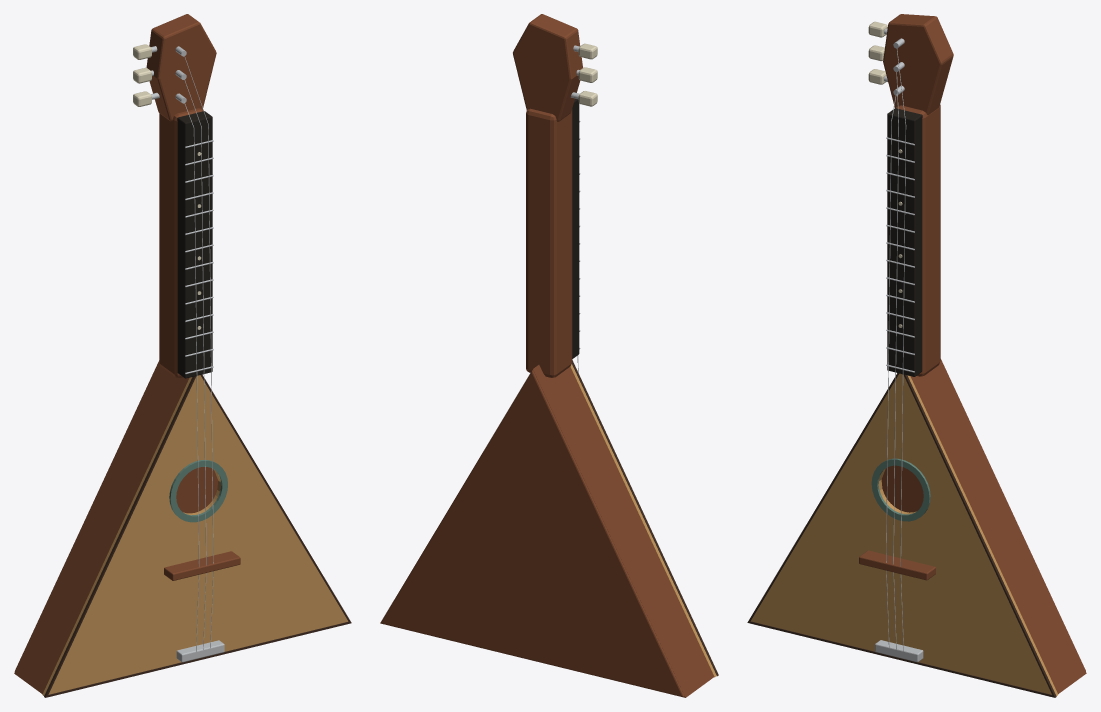
Rendered from full.fbx.
3 renders of one model, left to right at view 1: azimuth 30°, elevation 25°; view 2: azimuth 150°, elevation 25°; view 3: azimuth 330°, elevation 25°, orthographic.
Visible parts, largest first — view 1: Triangular soundboard with real soundhole, Hollow triangular body sides, Dark fingerboard, Asymmetric paddle headstock, Long narrow neck, Front perimeter binding, Closed triangular back, Plain soundhole annular surround, Raised bridge, Continuous string 2, Continuous string 1, Continuous string 0 (+1 smaller); view 2: Closed triangular back, Hollow triangular body sides, Long narrow neck, Asymmetric paddle headstock, Dark fingerboard, Triangular soundboard with real soundhole, Front perimeter binding; view 3: Triangular soundboard with real soundhole, Hollow triangular body sides, Dark fingerboard, Asymmetric paddle headstock, Long narrow neck, Front perimeter binding, Closed triangular back, Plain soundhole annular surround, Raised bridge, Continuous string 2, Continuous string 1, Continuous string 0 (+1 smaller).
Part boxes in pixels (bbox=[...]): Triangular soundboard with real soundhole: bbox=[42, 375, 348, 695]; Hollow triangular body sides: bbox=[14, 361, 189, 693]; Dark fingerboard: bbox=[177, 111, 212, 378]; Asymmetric paddle headstock: bbox=[146, 14, 216, 121]; Long narrow neck: bbox=[159, 108, 203, 377]; Front perimeter binding: bbox=[44, 374, 351, 697]; Closed triangular back: bbox=[14, 360, 218, 671]; Plain soundhole annular surround: bbox=[169, 460, 227, 522]; Raised bridge: bbox=[164, 551, 240, 580]; Continuous string 2: bbox=[184, 56, 213, 648]; Continuous string 1: bbox=[184, 79, 206, 649]; Continuous string 0: bbox=[184, 102, 199, 651]; Closed triangular back: bbox=[380, 370, 684, 696]; Hollow triangular body sides: bbox=[380, 365, 713, 697]; Long narrow neck: bbox=[526, 108, 572, 377]; Asymmetric paddle headstock: bbox=[513, 14, 582, 121]; Dark fingerboard: bbox=[572, 98, 579, 358]; Triangular soundboard with real soundhole: bbox=[570, 364, 716, 677]; Front perimeter binding: bbox=[571, 360, 718, 676]; Triangular soundboard with real soundhole: bbox=[751, 373, 1058, 695]; Hollow triangular body sides: bbox=[910, 360, 1086, 693]; Dark fingerboard: bbox=[887, 108, 922, 376]; Asymmetric paddle headstock: bbox=[883, 14, 953, 115]; Long narrow neck: bbox=[896, 104, 940, 376]; Front perimeter binding: bbox=[747, 373, 1056, 697]; Closed triangular back: bbox=[881, 359, 1085, 671]; Plain soundhole annular surround: bbox=[871, 458, 930, 521]; Raised bridge: bbox=[859, 550, 935, 580]; Continuous string 2: bbox=[896, 48, 906, 651]; Continuous string 1: bbox=[893, 72, 898, 649]; Continuous string 0: bbox=[886, 94, 896, 647].
Bounding box in the file's own units: 34.1 × 66.7 × 8.
